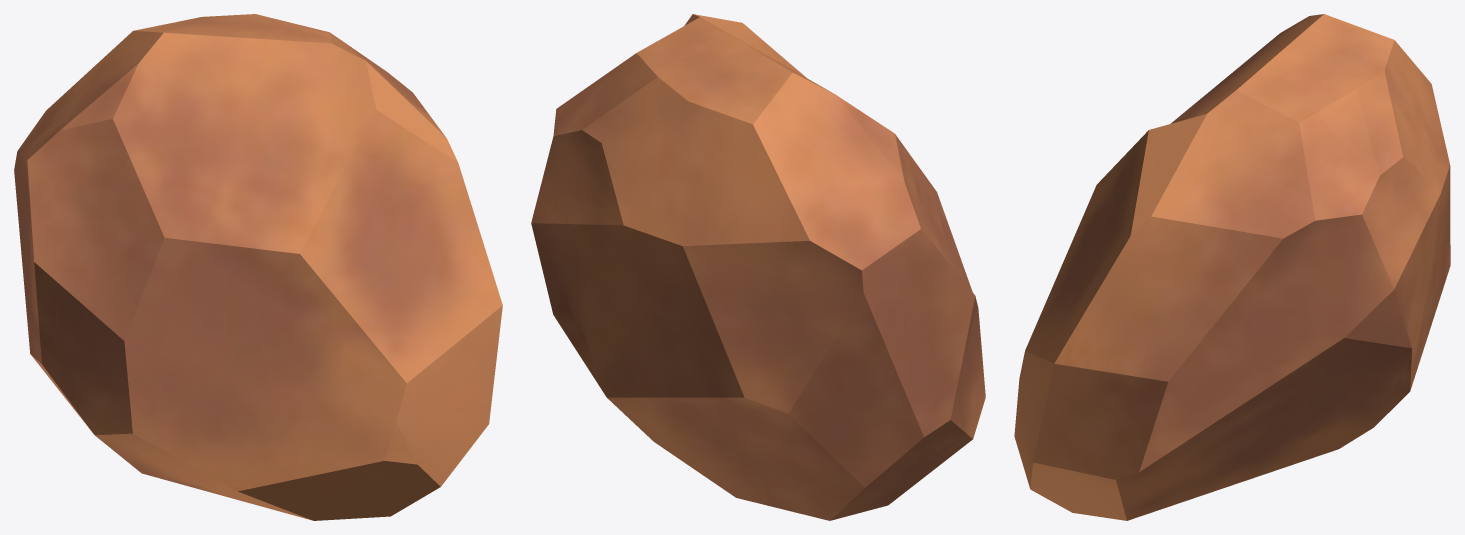
Rendered from Rock_8.gltf.
The picture shows the model from 3 angles, left to right: view 1: azimuth 30°, elevation 25°; view 2: azimuth 150°, elevation 25°; view 3: azimuth 270°, elevation 25°; orthographic projection. The views are drawn at different scales.
Visible parts, largest first — view 1: Rock_8; view 2: Rock_8; view 3: Rock_8.
Boxes of the visible parts, x1,y1,x2,y2 form: Rock_8: [14, 14, 502, 520]; Rock_8: [531, 14, 985, 520]; Rock_8: [1014, 14, 1450, 520].
Size of the model in its own units: 1.73 by 1.77 by 1.58.
Materials: 1 (1 with a texture image).
